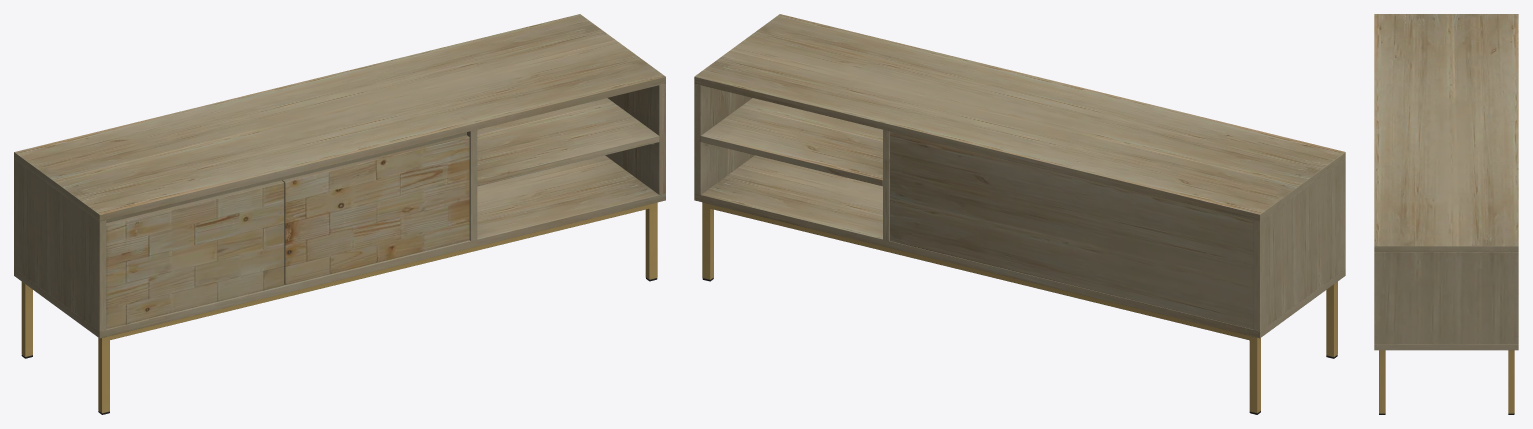
File: abo-B07HSJDMXQ.glb
3 renders of one model, left to right at view 1: azimuth 30°, elevation 25°; view 2: azimuth 150°, elevation 25°; view 3: azimuth 270°, elevation 25°, orthographic. The views are drawn at different scales.
Bounding box in the file's own units: 1.6 × 0.55 × 0.42.
1 material, 1 textured.
